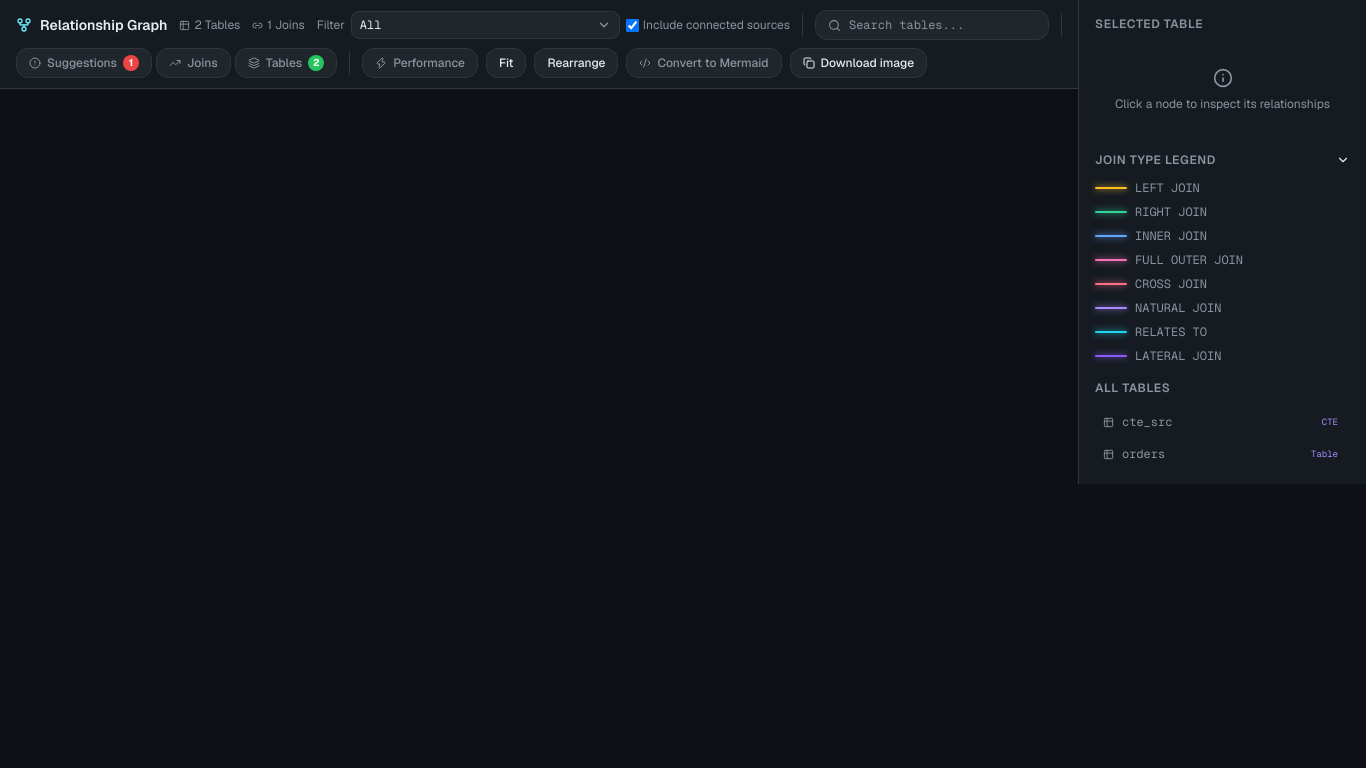
Test: relationship graph filtering and selection (019 A13, A15, A28) › A13: a source hidden by a filter change is deselected and its details disappear
Click the button "orders Table" at {"x": 1222, "y": 454}, box [1095,440,1350,468]
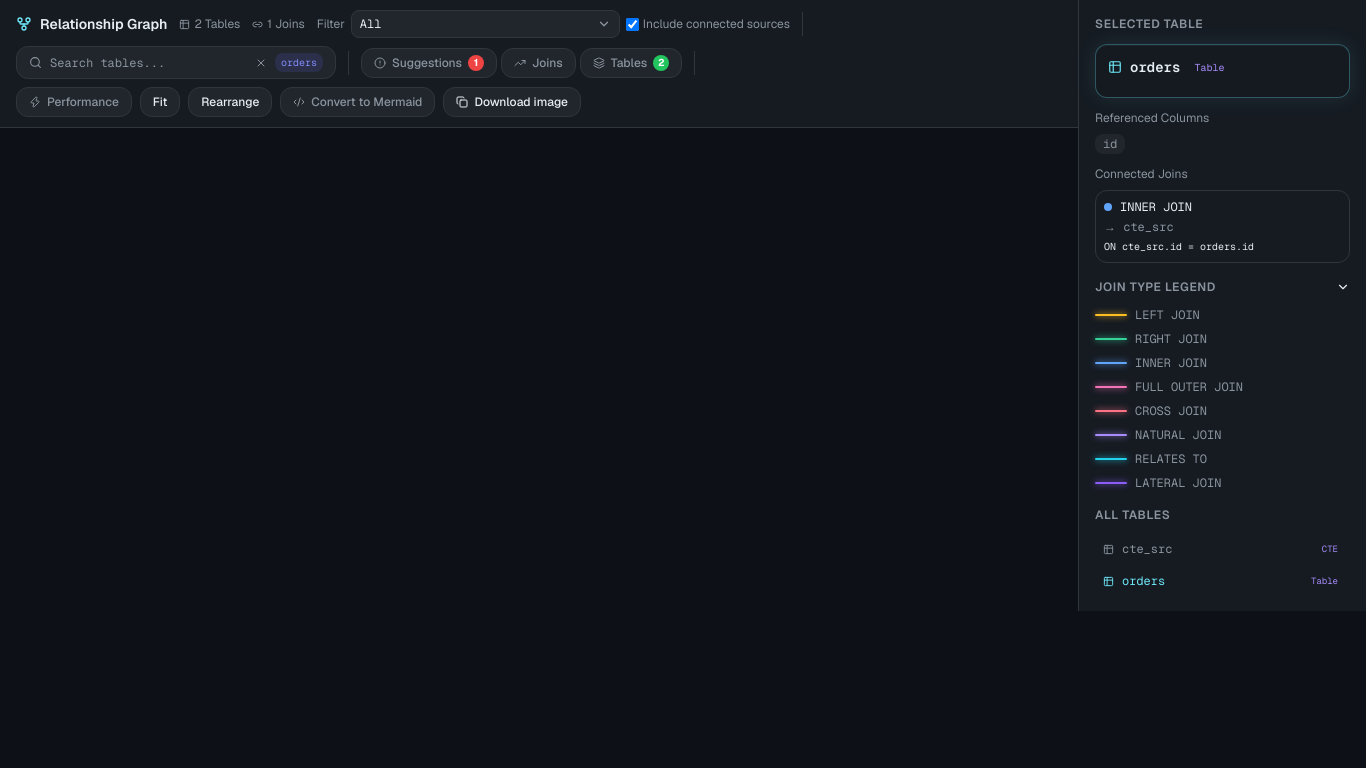
Expected: the text "orders" below "Relationship Graph" is shown, [281,56,317,69]
Expected: the text "Referenced Columns" is shown, [1095,110,1209,126]
Click the checkbox labelled "Include connected sources" at {"x": 632, "y": 24}, box [626,18,639,30]
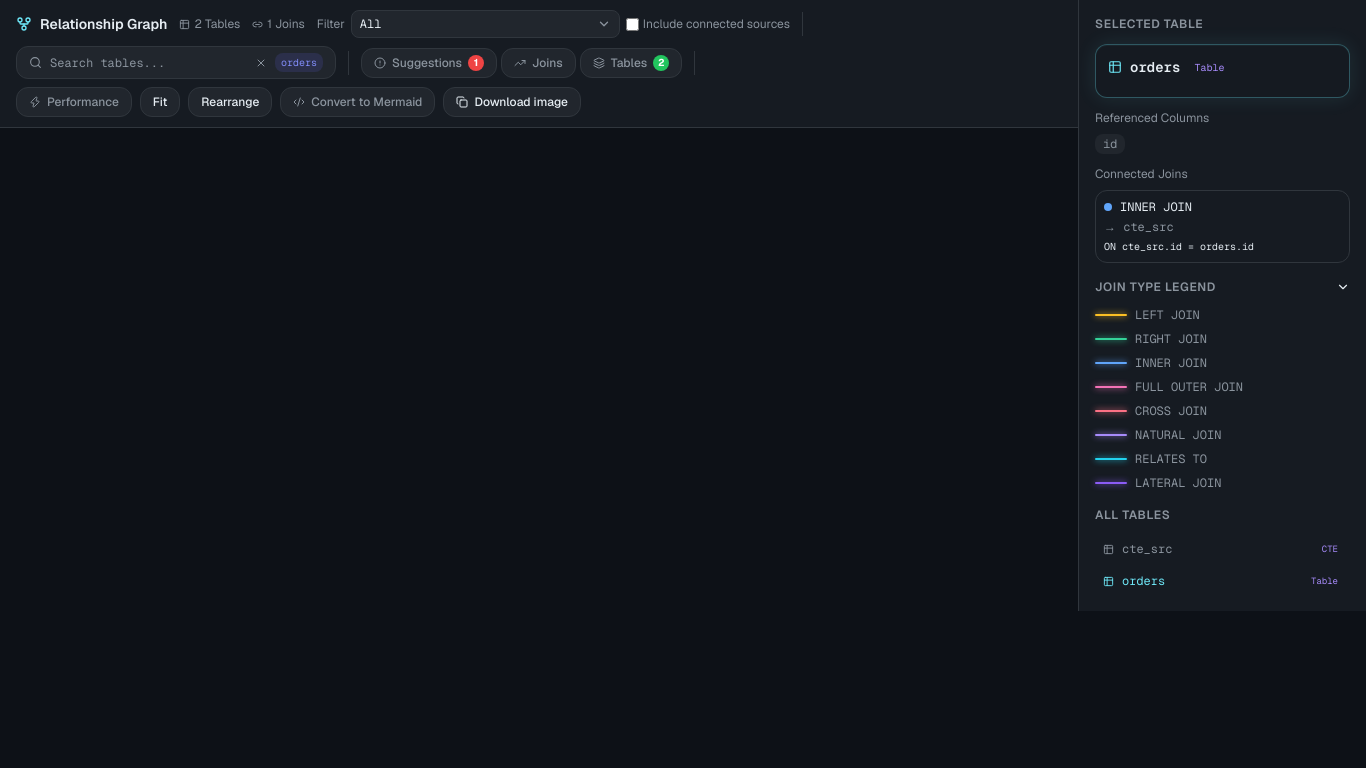
Select "CTEs only" in the dropdown named "Filter" at {"x": 485, "y": 24}, box [351,10,620,38]
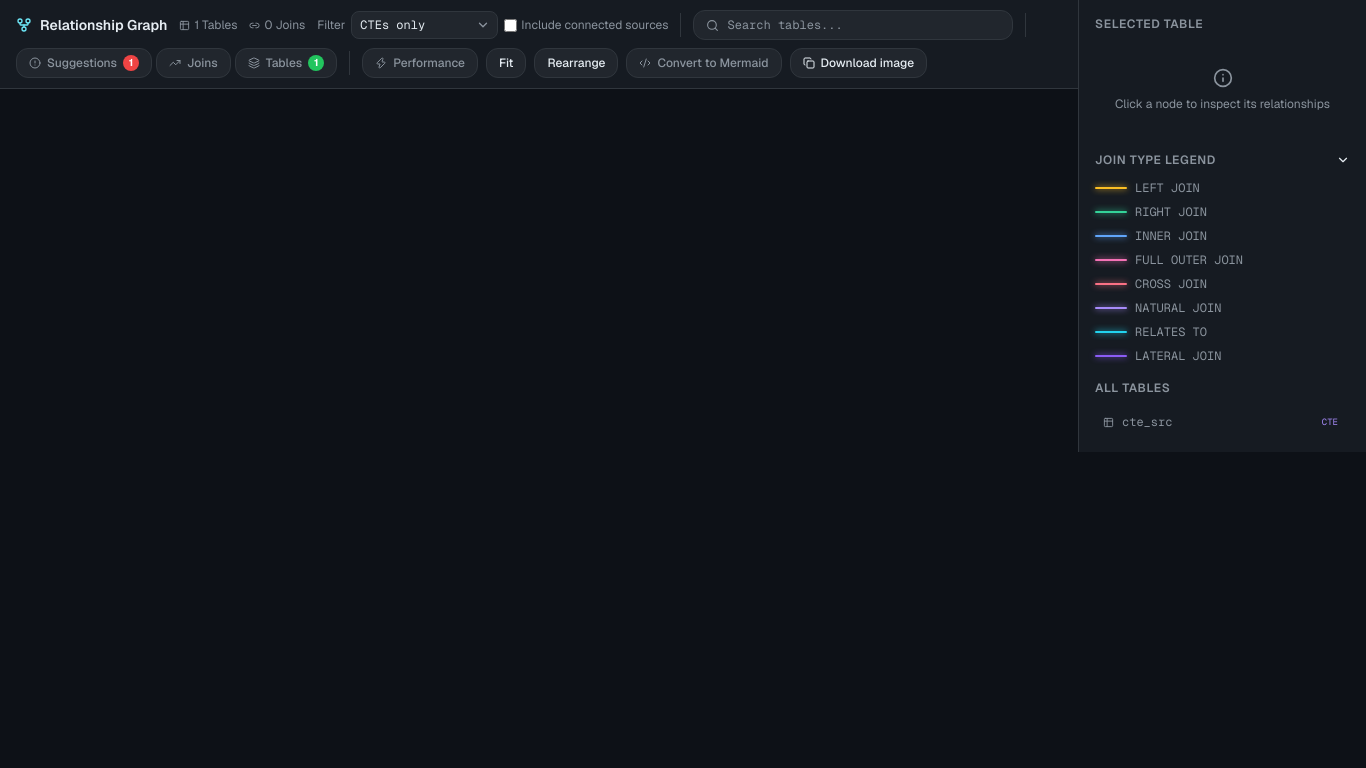
Expected: the text "Referenced Columns" is gone
Expected: the text "Click a node to inspect its relationships" is shown, [1115,96,1330,112]
